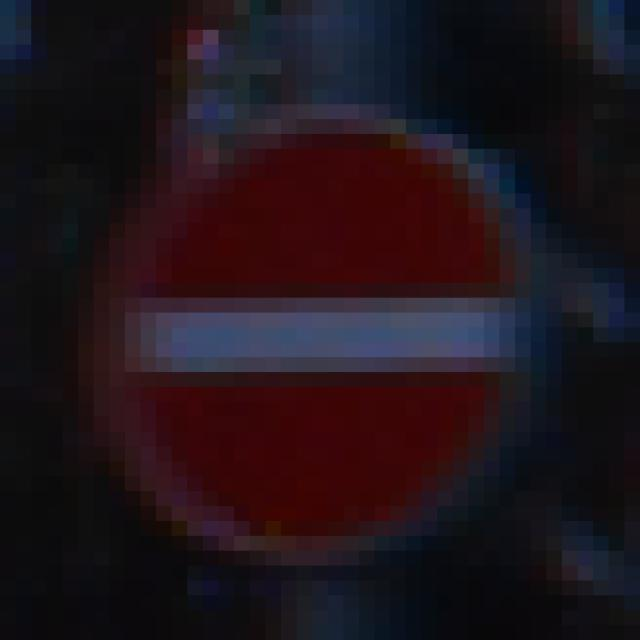No Entry: (79, 90, 563, 567)
